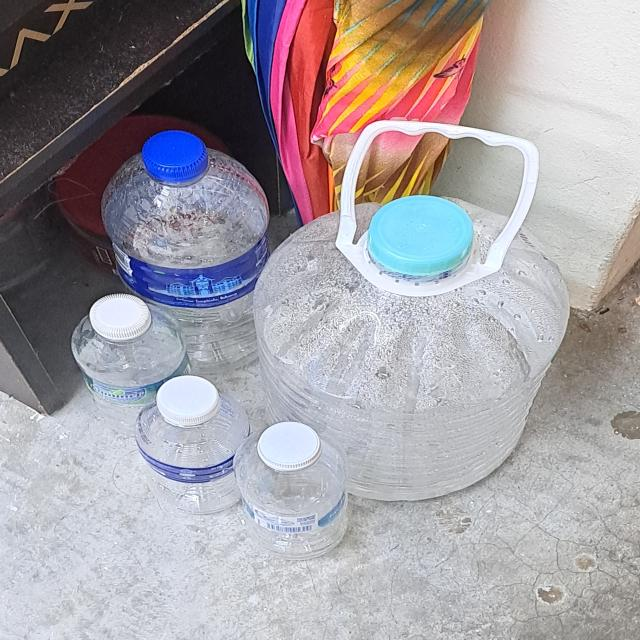plastic bottle: (251, 195, 574, 503), (102, 146, 270, 372), (70, 303, 192, 439), (130, 392, 252, 516), (235, 436, 349, 562)
plastic bottle cap: (366, 195, 476, 276), (142, 129, 208, 183), (156, 375, 222, 426), (258, 421, 322, 473), (90, 292, 152, 340)
